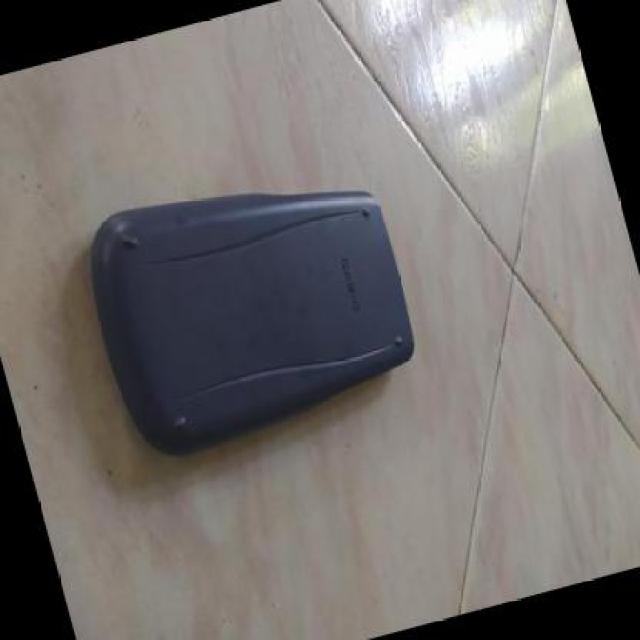Calculator: (60, 135, 442, 477)
